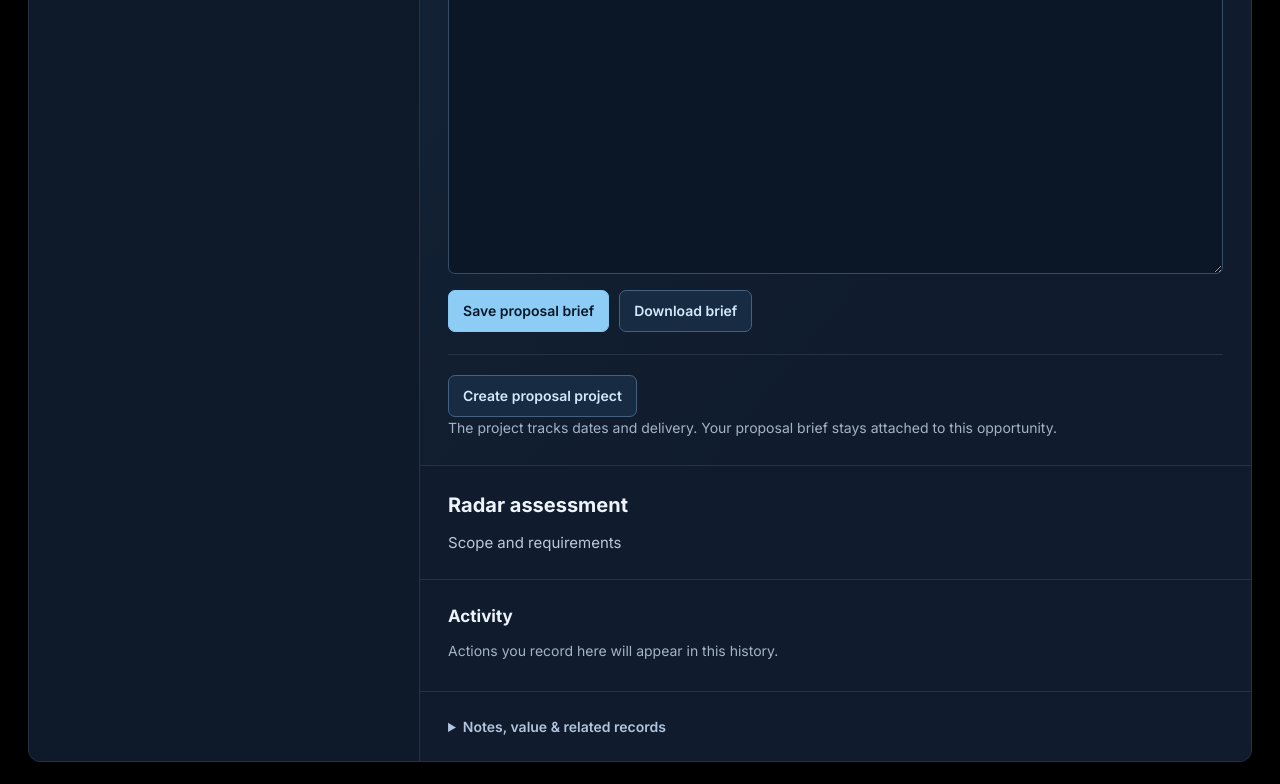
Test: opportunity workspace user journeys › offers explicit conflict recovery when proposal conversion races another saved update
The width and height of the screenshot is (1280, 784).
(page scrolled)
Click the button "Create proposal project" at (542, 396), box [448,375,637,416]
(page scrolled)
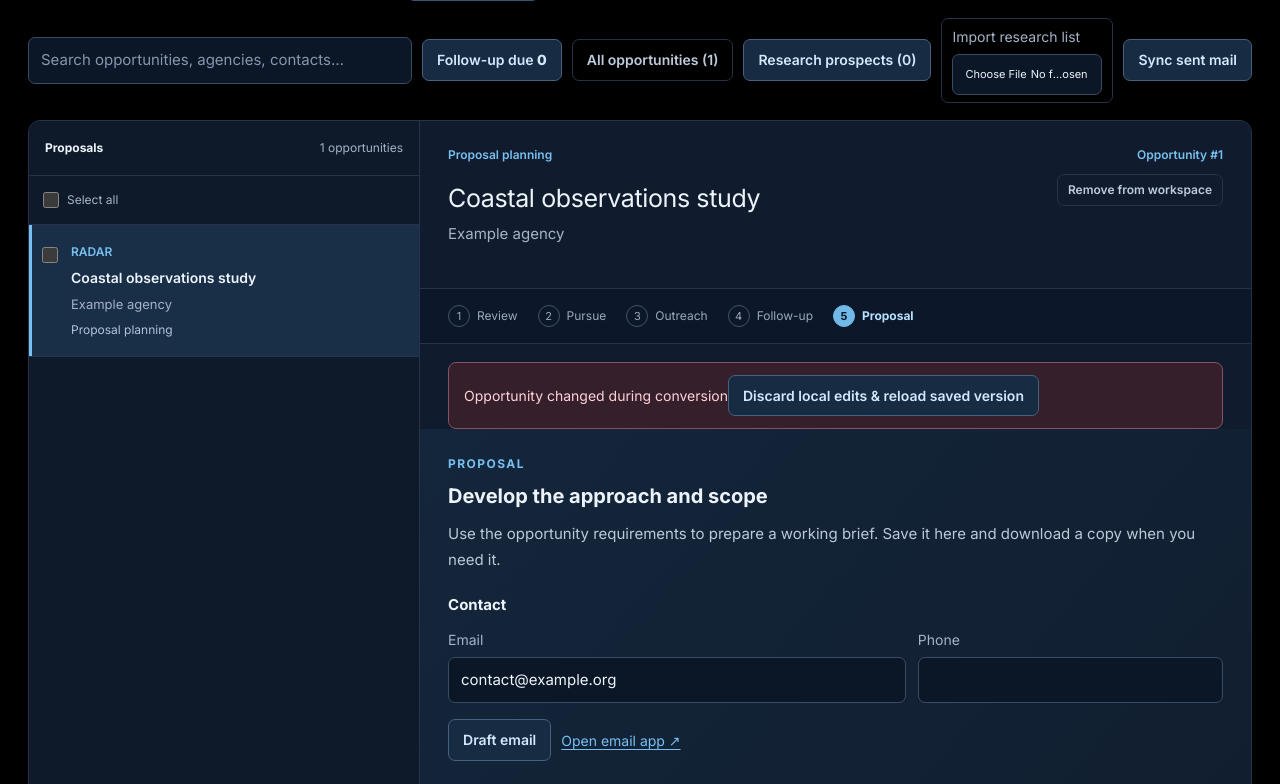
Check: the button "Discard local edits & reload saved version" is shown, box [728,375,1039,416]
Check: the message shows "Opportunity changed during conversion", box [464,387,728,404]
